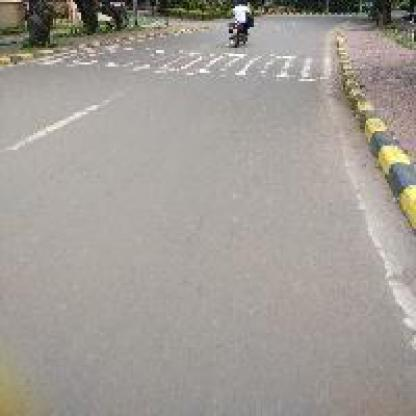Speed Bump: (25, 42, 333, 83)
